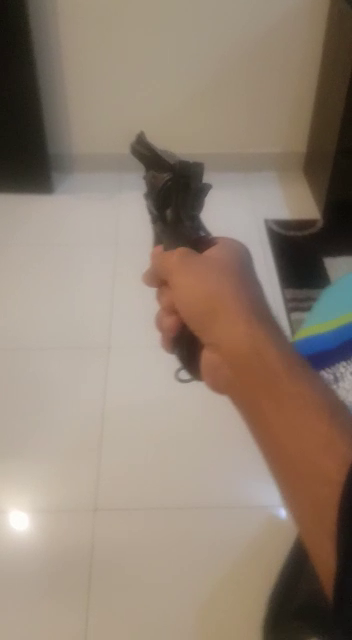handgun: (105, 129, 216, 406)
